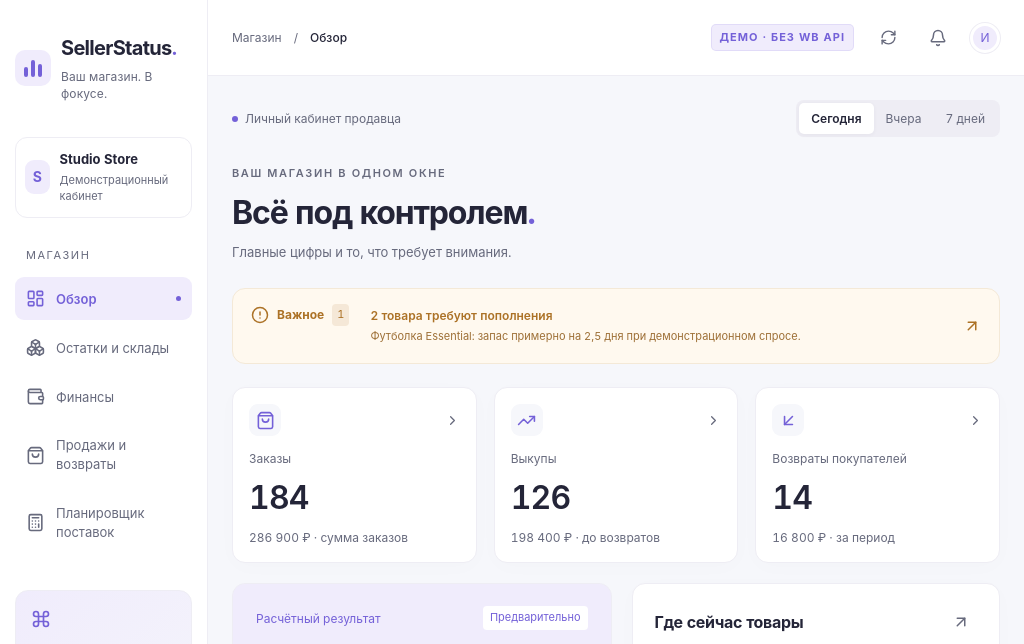
Test case: Loading and recovery in the interface › hides the previous snapshot on unauthorized instead of presenting it as current
This screenshot has width=1024, height=644.
Expected: the button "Выкупы 126 198 400 ₽ · до возвратов" is shown, x1=494 y1=387 x2=738 y2=563
What coordinates should you click on to do the following:
click the button named "Обновить демоданные"
I would click on:
 (888, 38)
Its box is x1=870 y1=20 x2=906 y2=56.
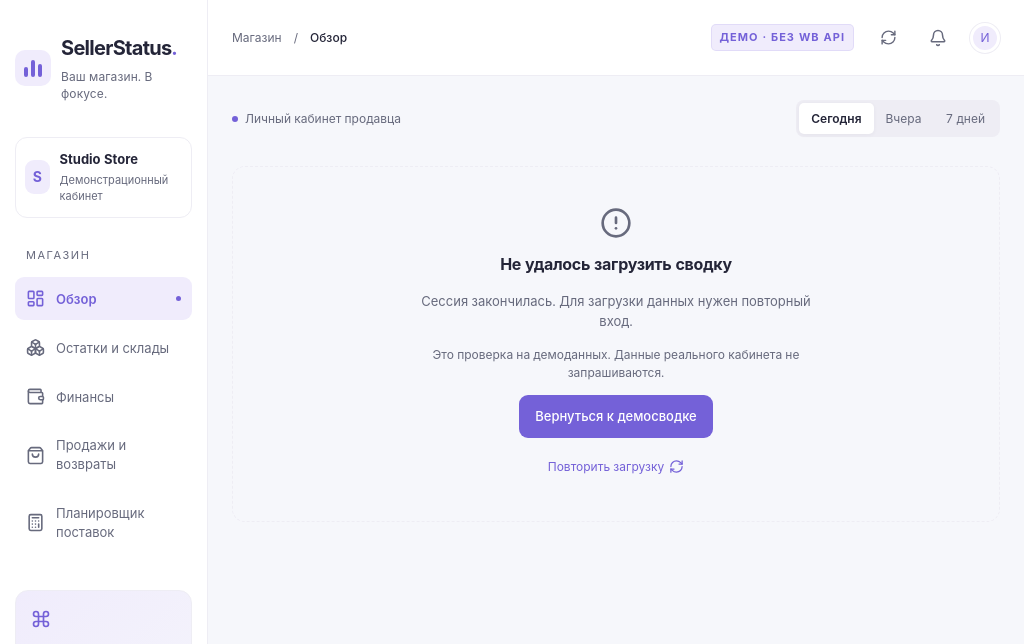
Expected: the heading "Не удалось загрузить сводку" is shown, x1=500 y1=253 x2=732 y2=277
Expected: the button "Выкупы 126 198 400 ₽ · до возвратов" is gone
